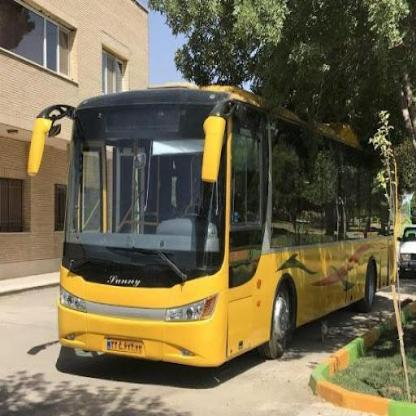Bus: (39, 74, 392, 405)
Car: (395, 217, 416, 281)
